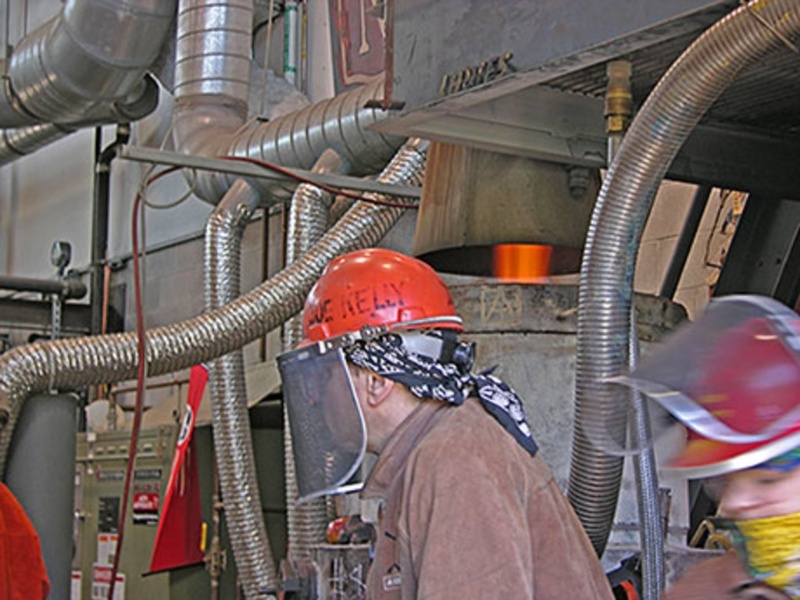Baret: (297, 252, 465, 333)
